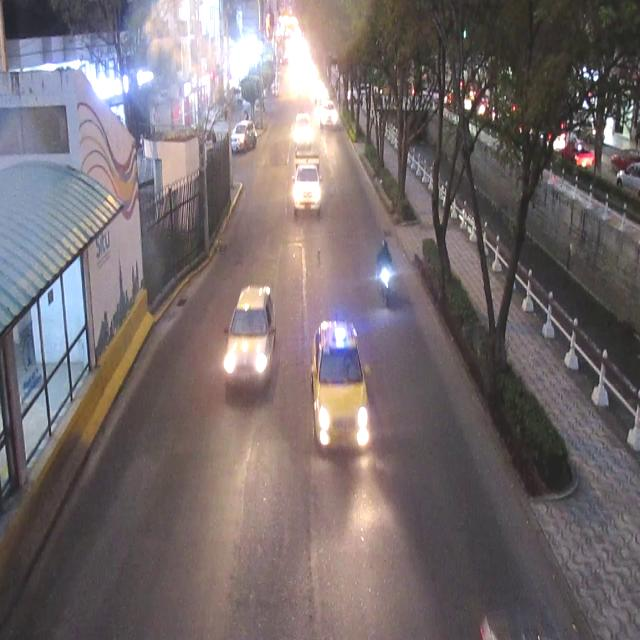CMT: (292, 150, 320, 215)
MOTORCYCLE: (374, 239, 397, 296)
SED: (315, 323, 370, 456), (226, 293, 275, 402)
SUV: (230, 124, 253, 152)
